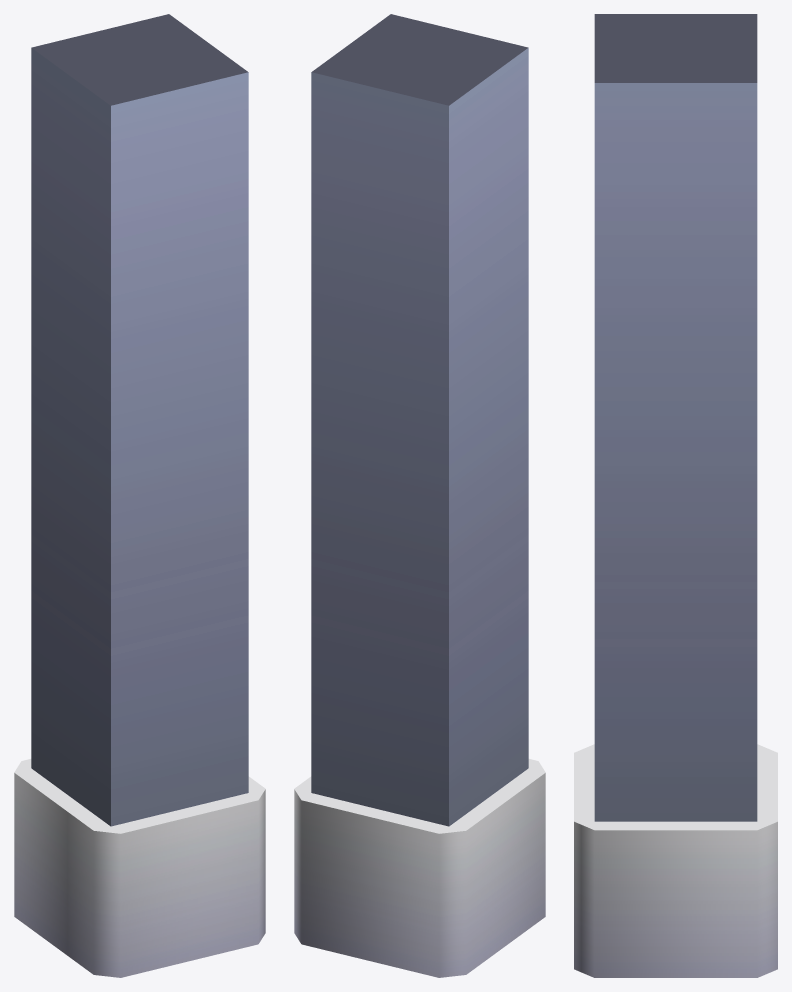
File: column.optimized.glb
3 renders of one model, left to right at view 1: azimuth 30°, elevation 25°; view 2: azimuth 150°, elevation 25°; view 3: azimuth 270°, elevation 25°, orthographic. The views are drawn at different scales.
Parts seen in each view (by area): view 1: column; view 2: column; view 3: column.
Boxes of the visible parts, left/top/right/bottom form: column: left=14, top=14, right=265, bottom=977; column: left=294, top=14, right=545, bottom=977; column: left=574, top=14, right=777, bottom=977.
Bounding box in the file's own units: 0.4998 × 2.4 × 0.4998.
Materials: 1 (1 with a texture image).
